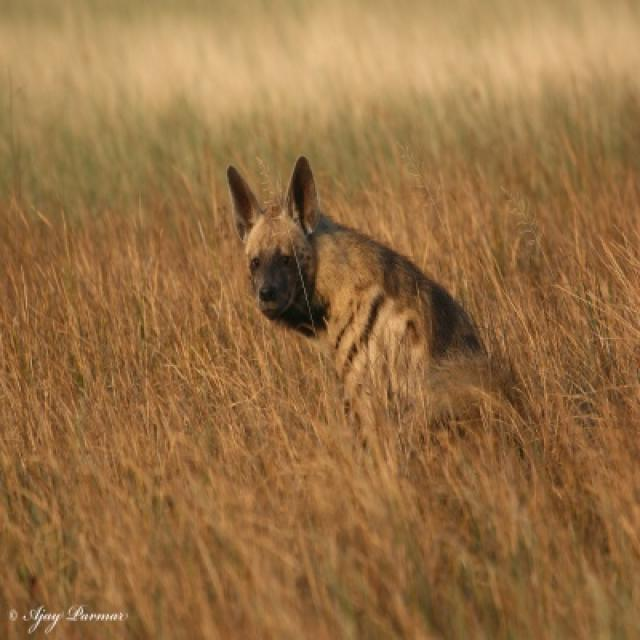hyena: (226, 158, 480, 378)
